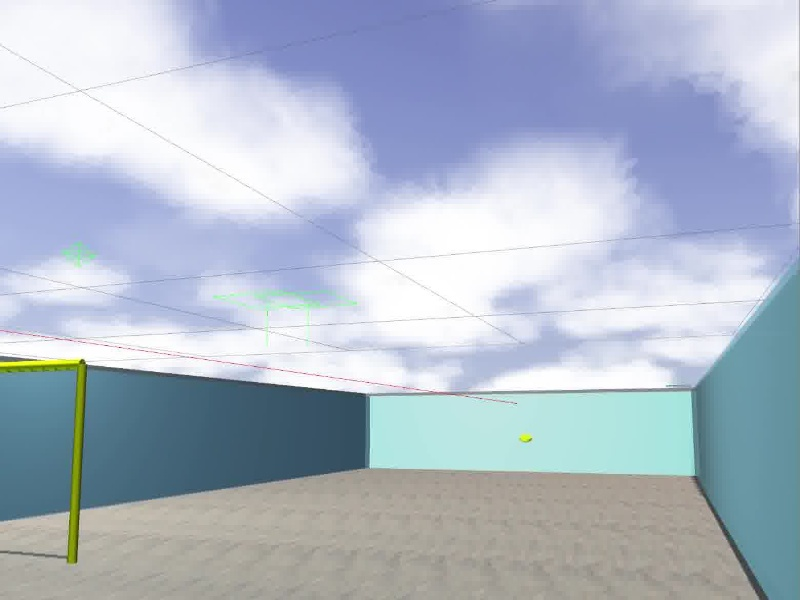gate: (1, 358, 87, 567)
